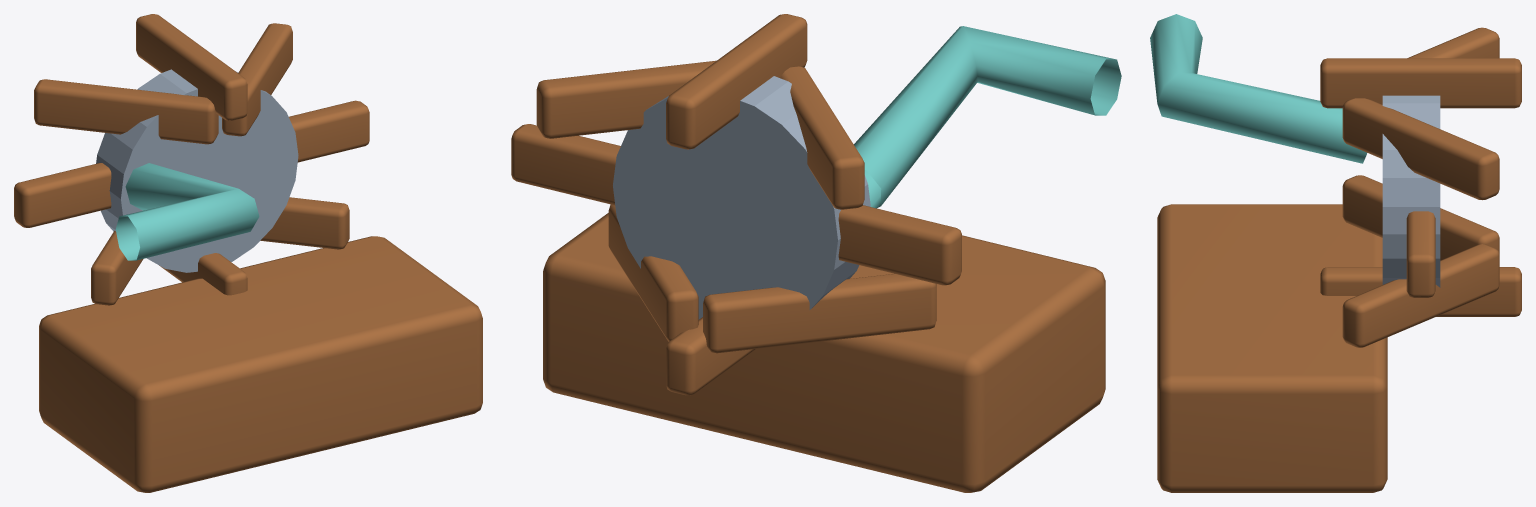
File: switzerland-waterwheel-toy.glb
3 views of the same model, side by side, from view 1: azimuth 30°, elevation 25°; view 2: azimuth 150°, elevation 25°; view 3: azimuth 270°, elevation 25° (orthographic). The views are drawn at different scales.
Visible parts, largest first — view 1: みずの うけ, すいしゃの しん, みずの とい, みずぐるまの いた.003, みずぐるまの いた.002, みずぐるまの いた.004, みずぐるまの いた, みずぐるまの いた.007, みずぐるまの いた.001, みずぐるまの いた.005, みずぐるまの いた.006; view 2: みずの うけ, すいしゃの しん, みずの とい, みずぐるまの いた.005, みずぐるまの いた.002, みずぐるまの いた.001, みずぐるまの いた.004, みずぐるまの いた, みずぐるまの いた.003, みずぐるまの いた.007, みずぐるまの いた.006; view 3: みずの うけ, みずの とい, みずぐるまの いた.002, みずぐるまの いた.001, みずぐるまの いた.007, すいしゃの しん, みずぐるまの いた.005, みずぐるまの いた.006, みずぐるまの いた, みずぐるまの いた.003.
Boxes of the visible parts, box(x1,y1,x2,y2) form: みずの うけ: box(39, 236, 482, 492); すいしゃの しん: box(96, 69, 298, 272); みずの とい: box(115, 163, 259, 260); みずぐるまの いた.003: box(34, 79, 218, 144); みずぐるまの いた.002: box(136, 14, 247, 120); みずぐるまの いた.004: box(14, 163, 111, 227); みずぐるまの いた: box(289, 100, 369, 162); みずぐるまの いた.007: box(260, 197, 349, 249); みずぐるまの いた.001: box(222, 23, 292, 136); みずぐるまの いた.005: box(91, 230, 143, 305); みずぐるまの いた.006: box(159, 253, 247, 295); みずの うけ: box(543, 213, 1105, 492); すいしゃの しん: box(613, 76, 870, 319); みずの とい: box(854, 26, 1121, 208); みずぐるまの いた.005: box(703, 273, 936, 353); みずぐるまの いた.002: box(666, 14, 807, 149); みずぐるまの いた.001: box(536, 60, 716, 138); みずぐるまの いた.004: box(838, 205, 961, 285); みずぐるまの いた: box(511, 124, 620, 205); みずぐるまの いた.003: box(780, 66, 864, 209); みずぐるまの いた.007: box(608, 204, 698, 341); みずぐるまの いた.006: box(666, 317, 755, 395); みずの うけ: box(1157, 204, 1387, 492); みずの とい: box(1150, 14, 1366, 163); みずぐるまの いた.002: box(1320, 58, 1521, 108); みずぐるまの いた.001: box(1342, 98, 1499, 200); みずぐるまの いた.007: box(1342, 244, 1499, 347); すいしゃの しん: box(1382, 95, 1440, 287); みずぐるまの いた.005: box(1342, 175, 1499, 260); みずぐるまの いた.006: box(1320, 267, 1521, 316); みずぐるまの いた: box(1406, 211, 1435, 297); みずぐるまの いた.003: box(1407, 27, 1499, 58).
Bounding box in the file's own units: 0.91 × 0.795 × 0.775.
